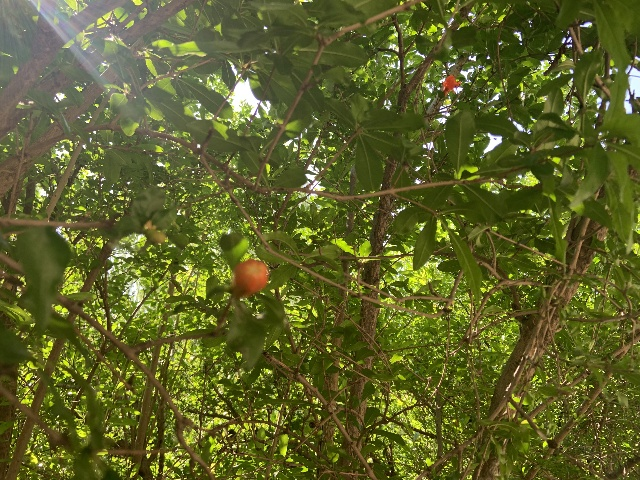bud: (230, 259, 268, 297)
flower: (442, 74, 460, 95)
